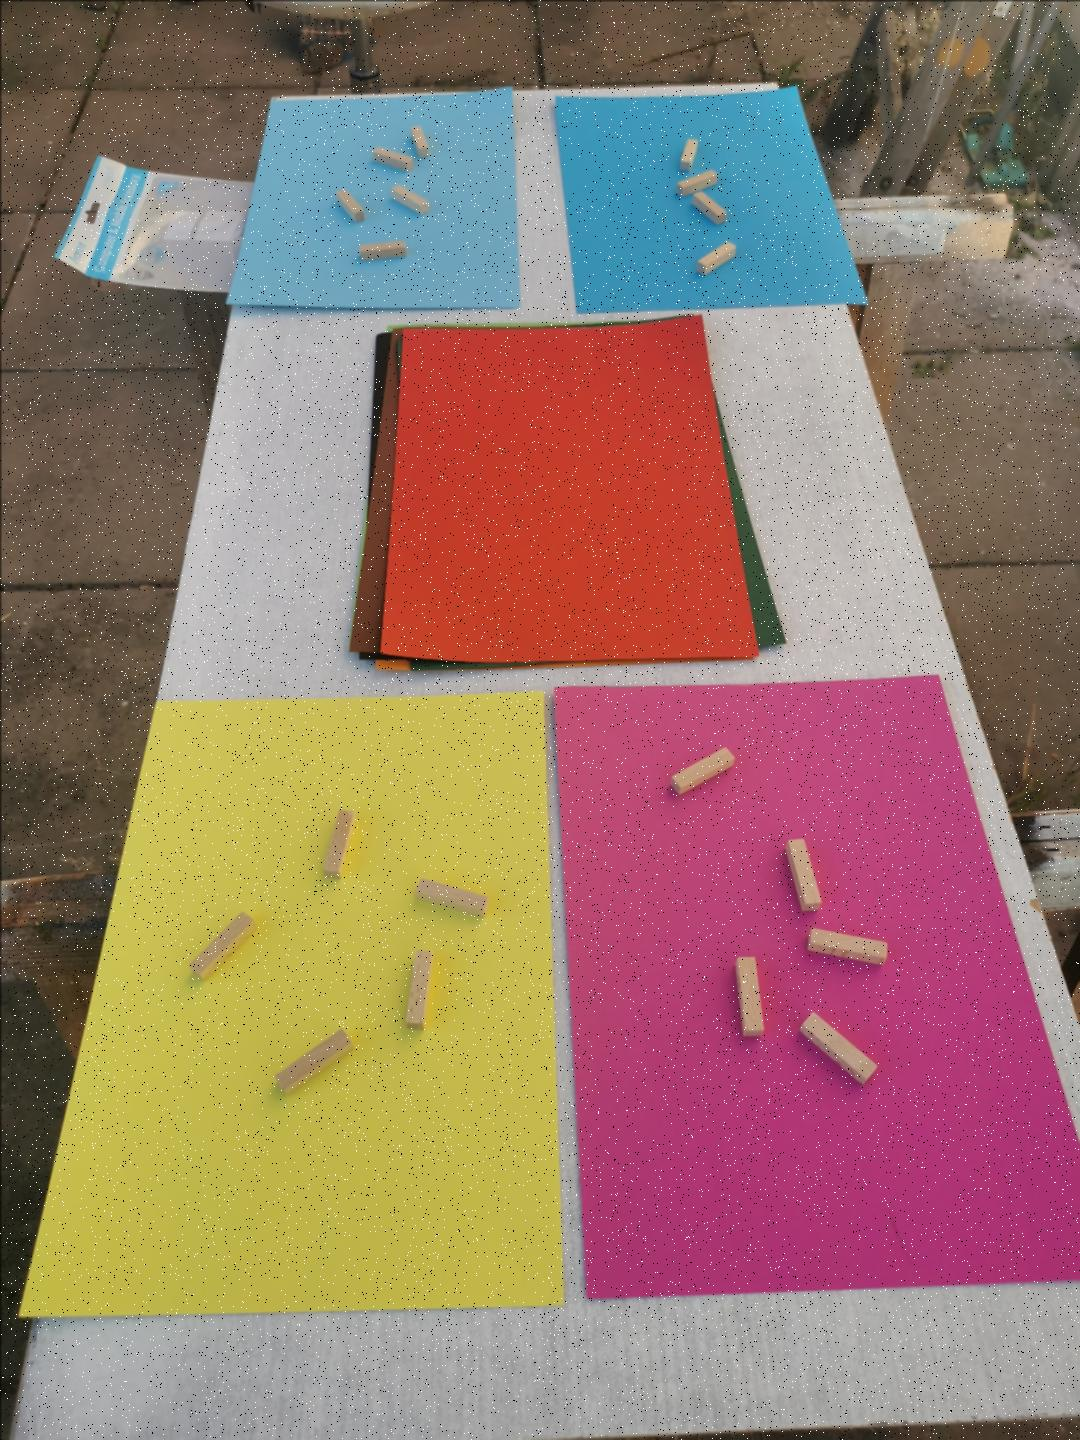jenga: (799, 1013, 875, 1083), (276, 1030, 352, 1094), (188, 912, 256, 979), (808, 925, 886, 965), (669, 745, 734, 793), (416, 878, 487, 917), (785, 838, 821, 912), (405, 948, 433, 1030), (734, 956, 762, 1035), (323, 810, 354, 878), (694, 242, 734, 276), (675, 169, 717, 197), (371, 146, 413, 171), (692, 192, 726, 222), (391, 186, 428, 214), (335, 188, 363, 222), (357, 239, 405, 259), (677, 138, 698, 171), (411, 124, 428, 158)
